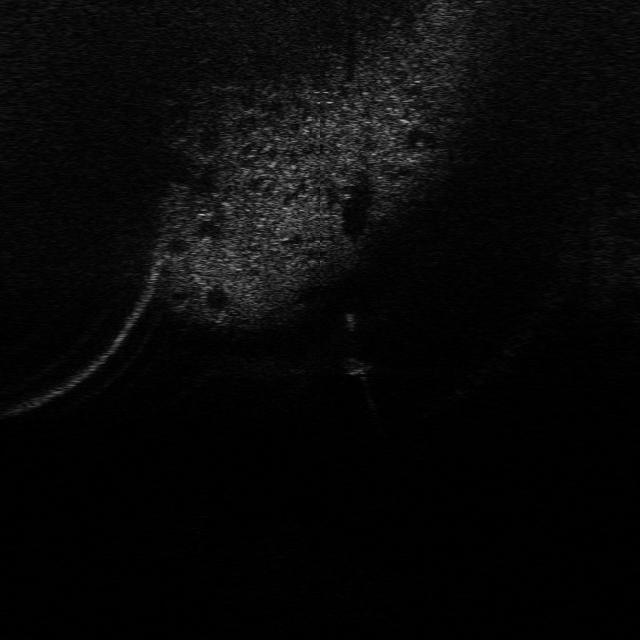cube: (337, 355, 378, 377)
cylinder: (336, 307, 358, 338)
